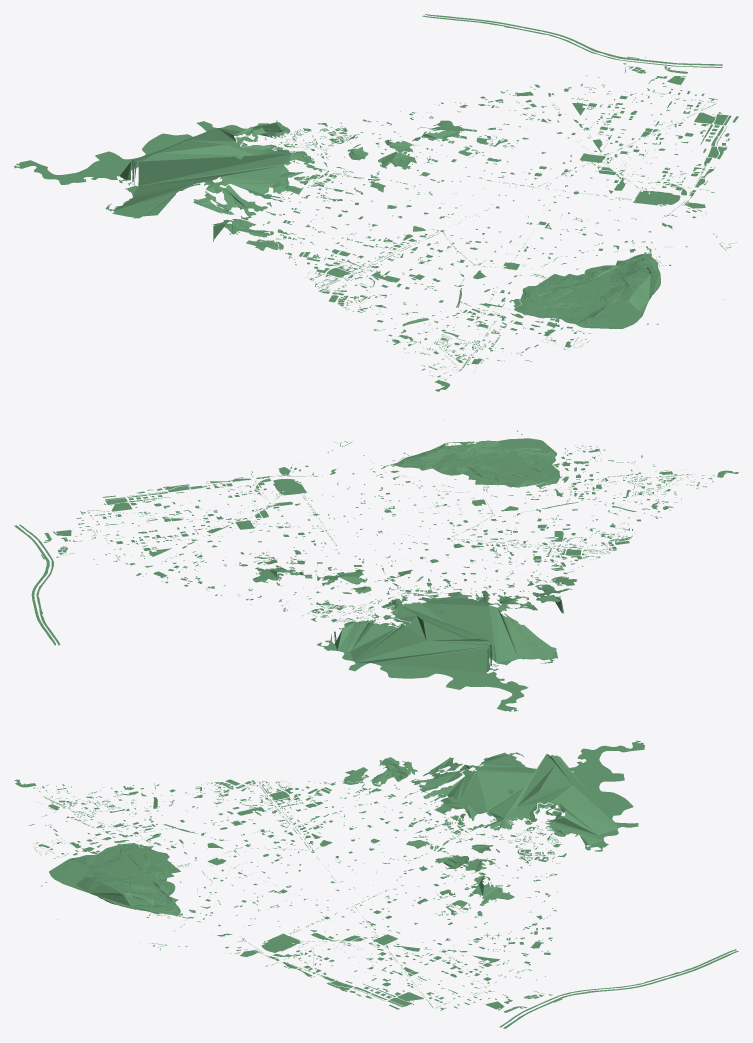
The model's file is green.glb.
3 views of the same model, one above another, from view 1: azimuth 30°, elevation 25°; view 2: azimuth 150°, elevation 25°; view 3: azimuth 270°, elevation 25° (orthographic). The views are drawn at different scales.
Parts seen in each view (by area): view 1: green; view 2: green; view 3: green.
Part boxes in pixels (x1,y1,x2,y2): green: (14, 14, 738, 391); green: (14, 420, 738, 711); green: (14, 740, 738, 1028).
Bounding box in the file's own units: 11707 × 496 × 12420.
